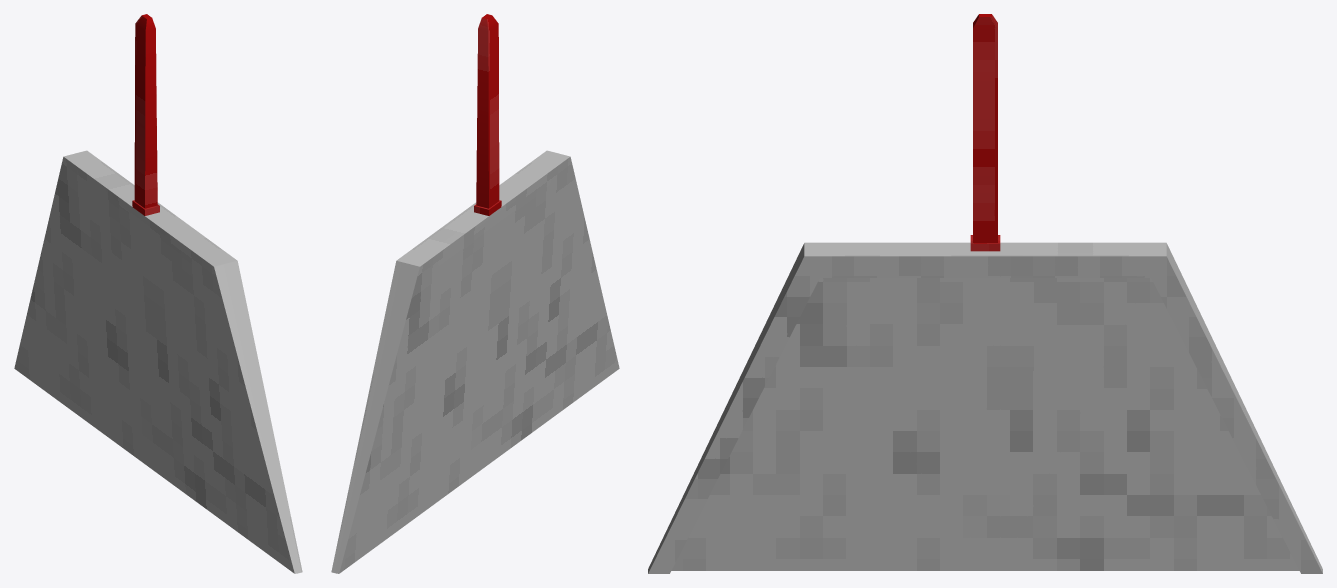
File: DustPan.fbx
3 renders of one model, left to right at view 1: azimuth 30°, elevation 25°; view 2: azimuth 150°, elevation 25°; view 3: azimuth 270°, elevation 25°, orthographic. The views are drawn at different scales.
Parts seen in each view (by area): view 1: Dust_Pan; view 2: Dust_Pan; view 3: Dust_Pan.
Boxes of the visible parts, x1,y1,x2,y2 form: Dust_Pan: (14, 14, 302, 573); Dust_Pan: (331, 14, 619, 573); Dust_Pan: (648, 14, 1322, 573).
Size of the model in its own units: 1.4 by 25.7 by 28.6.
1 material, 1 textured.
